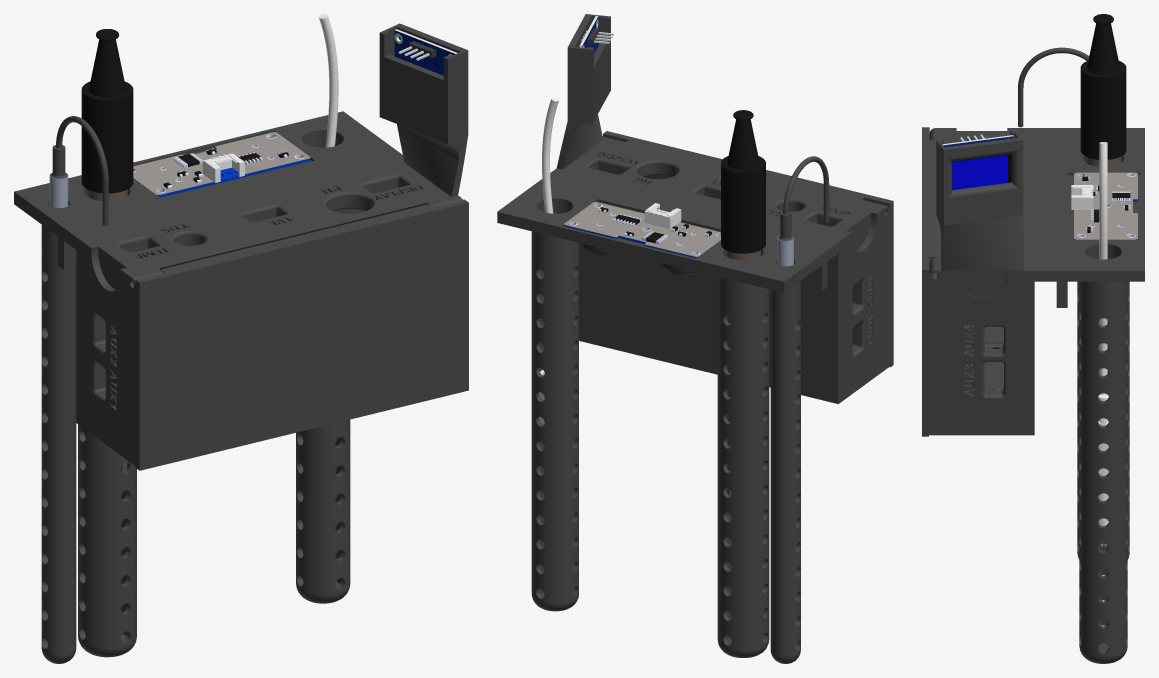
File: Assieme_scheda_e_sensori.glb
The picture shows the model from 3 angles, left to right: view 1: azimuth 30°, elevation 25°; view 2: azimuth 150°, elevation 25°; view 3: azimuth 270°, elevation 25°; orthographic projection. The views are drawn at different scales.
Parts seen in each view (by area): view 1: coperchio-4, attacco_sensori-1, base-1, display_aquamind-1, ph_sonda v1-1, RCWL-1670 Ultrasonic-1, ds18b20-1, OLED-128x64-0.96-1, TDS_sensor-1; view 2: attacco_sensori-1, base-1, ph_sonda v1-1, RCWL-1670 Ultrasonic-1, display_aquamind-1, coperchio-4, ds18b20-1, TDS_sensor-1; view 3: attacco_sensori-1, base-1, display_aquamind-1, ph_sonda v1-1, RCWL-1670 Ultrasonic-1, coperchio-4, OLED-128x64-0.96-1, TDS_sensor-1, ds18b20-1.
Part boxes in pixels (bbox=[...]): coperchio-4: bbox=[135, 199, 468, 470]; attacco_sensori-1: bbox=[14, 111, 405, 663]; base-1: bbox=[76, 164, 462, 465]; display_aquamind-1: bbox=[379, 23, 468, 196]; ph_sonda v1-1: bbox=[81, 29, 133, 471]; RCWL-1670 Ultrasonic-1: bbox=[133, 132, 310, 197]; ds18b20-1: bbox=[49, 116, 108, 225]; OLED-128x64-0.96-1: bbox=[394, 29, 457, 75]; TDS_sensor-1: bbox=[318, 14, 338, 147]; attacco_sensori-1: bbox=[497, 168, 845, 663]; base-1: bbox=[564, 136, 889, 403]; ph_sonda v1-1: bbox=[721, 110, 765, 495]; RCWL-1670 Ultrasonic-1: bbox=[564, 202, 720, 275]; display_aquamind-1: bbox=[556, 14, 610, 169]; coperchio-4: bbox=[603, 131, 893, 367]; ds18b20-1: bbox=[777, 156, 829, 266]; TDS_sensor-1: bbox=[539, 97, 559, 424]; attacco_sensori-1: bbox=[1020, 128, 1144, 663]; base-1: bbox=[929, 128, 1034, 435]; display_aquamind-1: bbox=[936, 129, 1023, 297]; ph_sonda v1-1: bbox=[1080, 14, 1126, 166]; RCWL-1670 Ultrasonic-1: bbox=[1071, 172, 1137, 239]; coperchio-4: bbox=[922, 127, 941, 436]; OLED-128x64-0.96-1: bbox=[942, 134, 1013, 189]; TDS_sensor-1: bbox=[1098, 142, 1108, 546]; ds18b20-1: bbox=[1018, 47, 1089, 127].
Bounding box in the file's own units: 0.1265 × 0.2187 × 0.0808.
